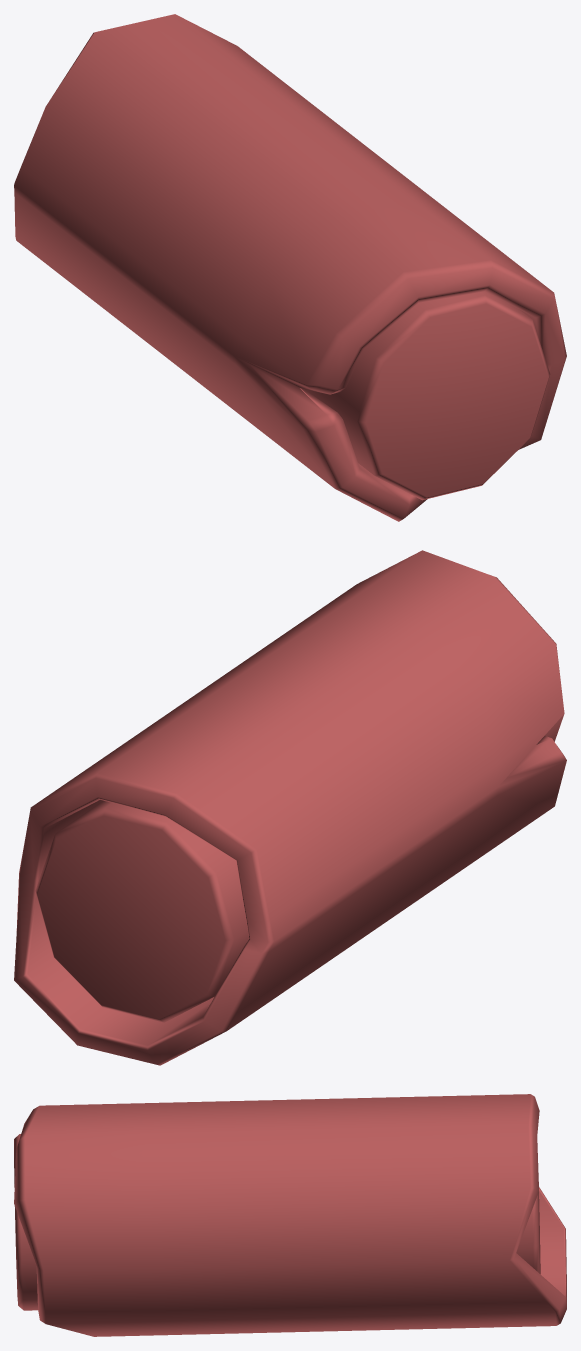
File: SM_Firewood_01_Unity.fbx
3 views of the same model, one above another, from view 1: azimuth 30°, elevation 25°; view 2: azimuth 150°, elevation 25°; view 3: azimuth 270°, elevation 25° (orthographic). The views are drawn at different scales.
Parts seen in each view (by area): view 1: SM_Firewood_01; view 2: SM_Firewood_01; view 3: SM_Firewood_01.
Part boxes in pixels (x1=…): SM_Firewood_01: x1=14, y1=14, x2=566, y2=521; SM_Firewood_01: x1=14, y1=550, x2=566, y2=1065; SM_Firewood_01: x1=14, y1=1094, x2=566, y2=1336.
Bounding box in the file's own units: 0.1779 × 0.1788 × 0.4202.
